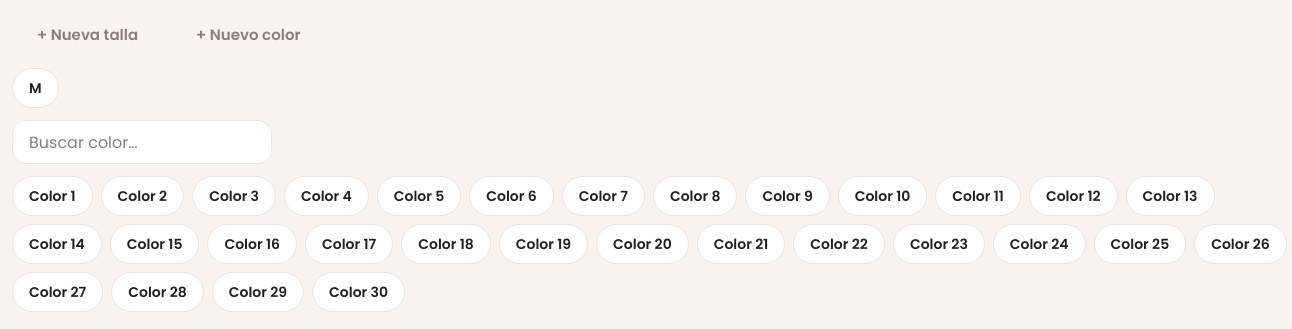
SizeColorPicker › con muchos colores, el buscador filtra los chips
The width and height of the screenshot is (1292, 329).
Expected: the button "Color 1" is shown, 12,176 -> 93,216
Expected: the button "Color 30" is shown, 312,272 -> 405,312
Type "Color 2" into the field labelled "Buscar color".
click(142, 142); type("Color 2")  # box 12,120 -> 272,164
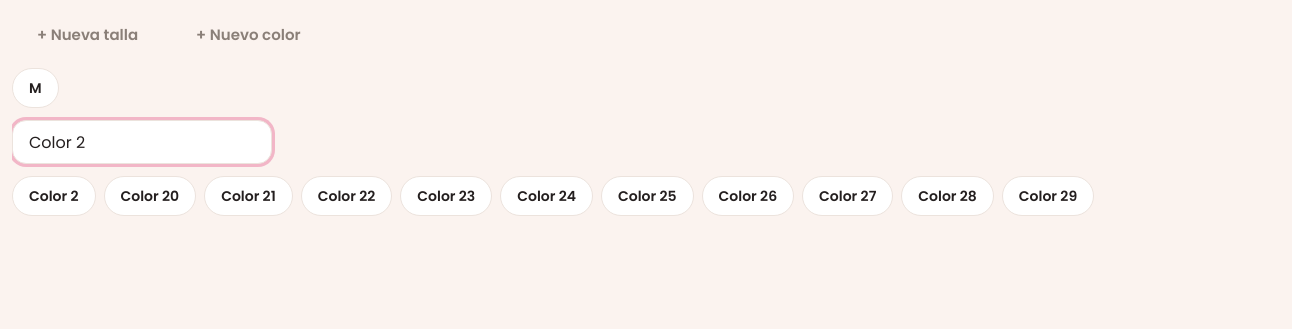
Expected: the button "Color 2" is shown, 12,176 -> 96,216
Result: the button "Color 1" is gone
Result: the button "Color 30" is gone
